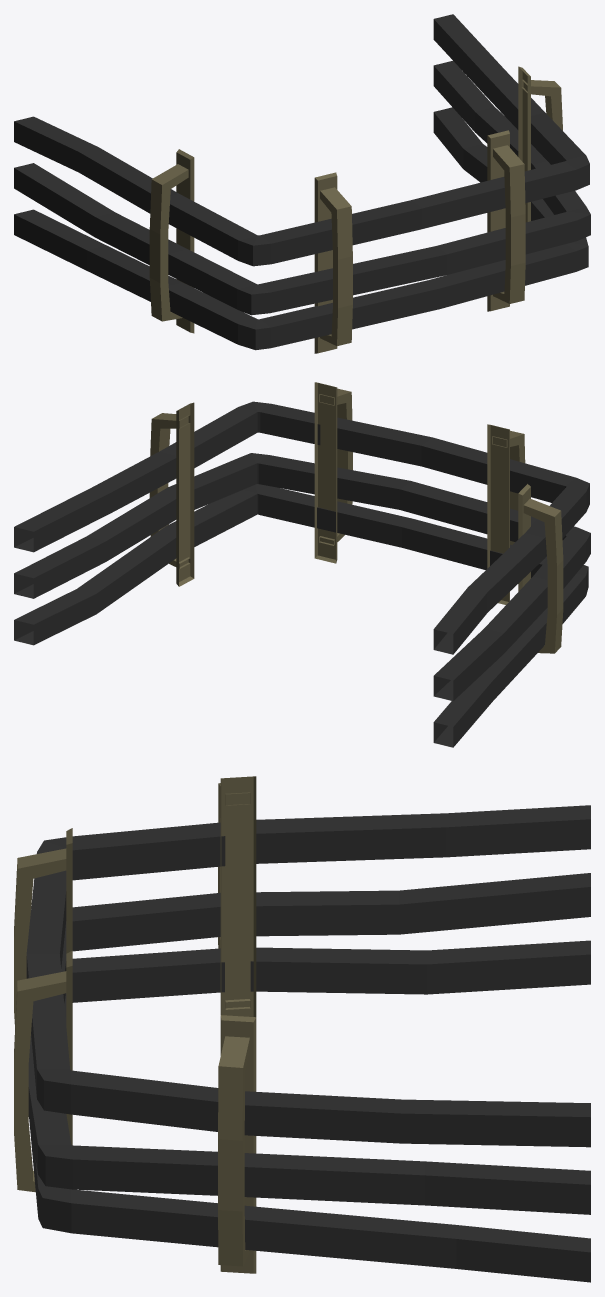
Rendered from SW_ENV_Wires3_StationTunnelWallEnd_02.fbx.
The picture shows the model from 3 angles, top to bottom: view 1: azimuth 30°, elevation 25°; view 2: azimuth 150°, elevation 25°; view 3: azimuth 270°, elevation 25°; orthographic projection. The views are drawn at different scales.
Visible parts, largest first — view 1: SW_ENV_Wires3_StationTunnelWallEnd_02; view 2: SW_ENV_Wires3_StationTunnelWallEnd_02; view 3: SW_ENV_Wires3_StationTunnelWallEnd_02.
Part boxes in pixels (box(x1,y1,x2,y2)): SW_ENV_Wires3_StationTunnelWallEnd_02: box(14, 14, 590, 353); SW_ENV_Wires3_StationTunnelWallEnd_02: box(14, 382, 590, 747); SW_ENV_Wires3_StationTunnelWallEnd_02: box(14, 776, 590, 1282).
Bounding box in the file's own units: 89 × 34.12 × 69.56.
